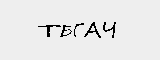А: (81, 20, 105, 40)
Б: (59, 22, 73, 41)
Г: (71, 19, 85, 40)
Т: (37, 22, 61, 40)
Ч: (101, 18, 119, 41)
